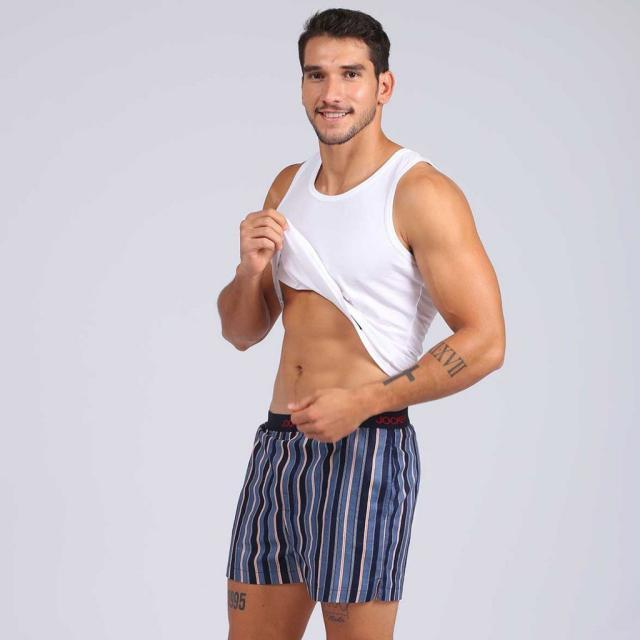Shirt: (264, 144, 454, 396)
